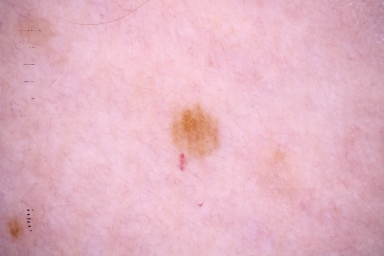nevus: (172, 104, 219, 165)
